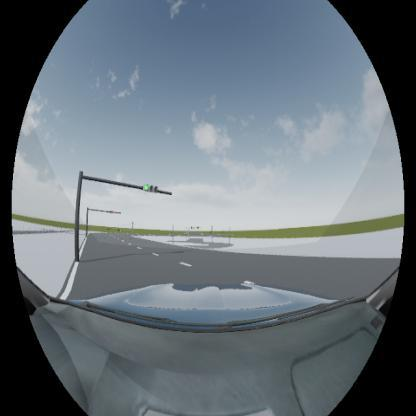Green Light: (144, 182, 160, 194)
